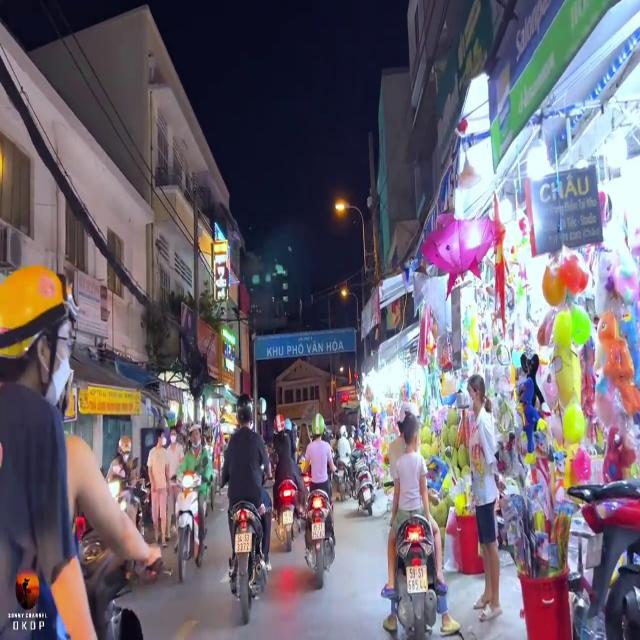bien_trang: (405, 562, 430, 597), (232, 534, 252, 554), (310, 522, 324, 540)
